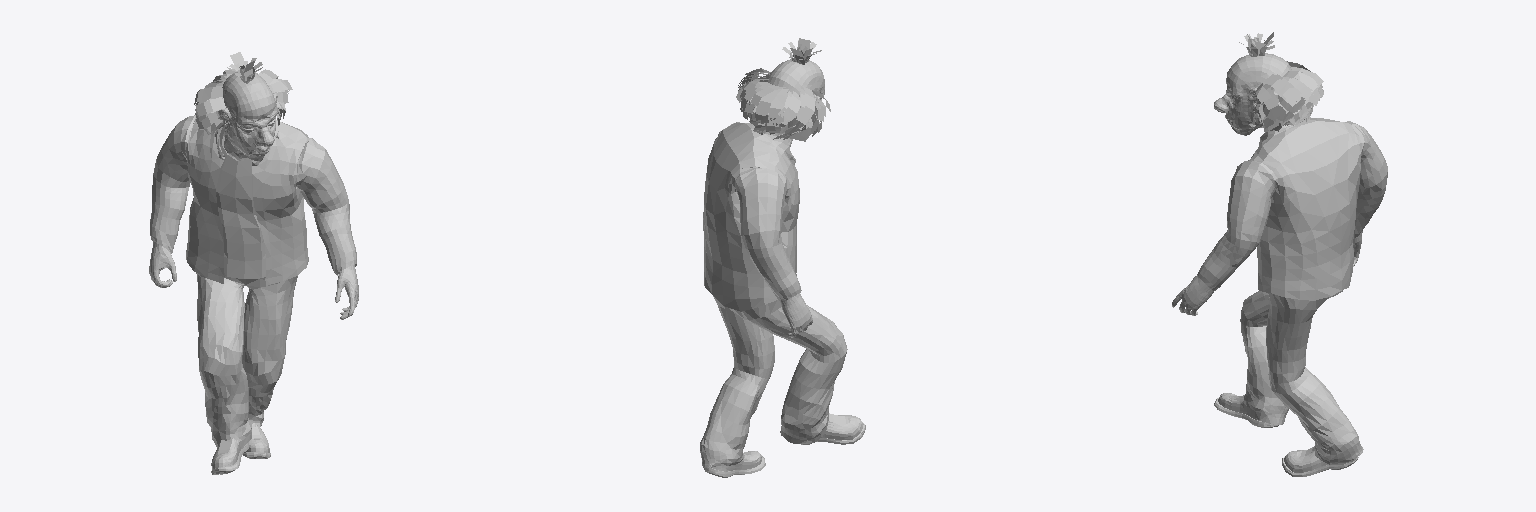
Rendered from Walk (25).obj.
3 renders of one model, left to right at view 1: azimuth 30°, elevation 25°; view 2: azimuth 150°, elevation 25°; view 3: azimuth 270°, elevation 25°, orthographic.
Visible parts, largest first — view 1: jacket, pants_low, shirt, head, hair, boots_01, hand_right, hand_left, boots_02; view 2: jacket, pants_low, hair, head, boots_01, hand_right, boots_02; view 3: jacket, pants_low, hair, head, boots_02, hand_left, boots_01.
Part boxes in pixels (left/top/right/bottom): jacket: left=150, top=115, right=356, bottom=285; pants_low: left=196, top=273, right=297, bottom=447; shirt: left=216, top=127, right=265, bottom=278; head: left=218, top=72, right=277, bottom=161; hair: left=194, top=52, right=292, bottom=135; boots_01: left=211, top=438, right=248, bottom=474; hand_right: left=149, top=241, right=176, bottom=287; hand_left: left=335, top=265, right=358, bottom=319; boots_02: left=243, top=425, right=270, bottom=458; jacket: left=703, top=122, right=801, bottom=311; pants_low: left=700, top=296, right=847, bottom=467; hair: left=736, top=38, right=830, bottom=141; head: left=765, top=59, right=824, bottom=134; boots_01: left=801, top=413, right=865, bottom=444; hand_right: left=780, top=293, right=812, bottom=337; boots_02: left=704, top=451, right=765, bottom=477; jacket: left=1197, top=118, right=1387, bottom=300; pants_low: left=1240, top=290, right=1363, bottom=464; hair: left=1239, top=32, right=1323, bottom=132; head: left=1214, top=53, right=1291, bottom=135; boots_02: left=1282, top=447, right=1358, bottom=476; hand_left: left=1172, top=275, right=1214, bottom=315; boots_01: left=1214, top=393, right=1278, bottom=427.
Size of the model in its own units: 68.29 by 188 by 87.62.